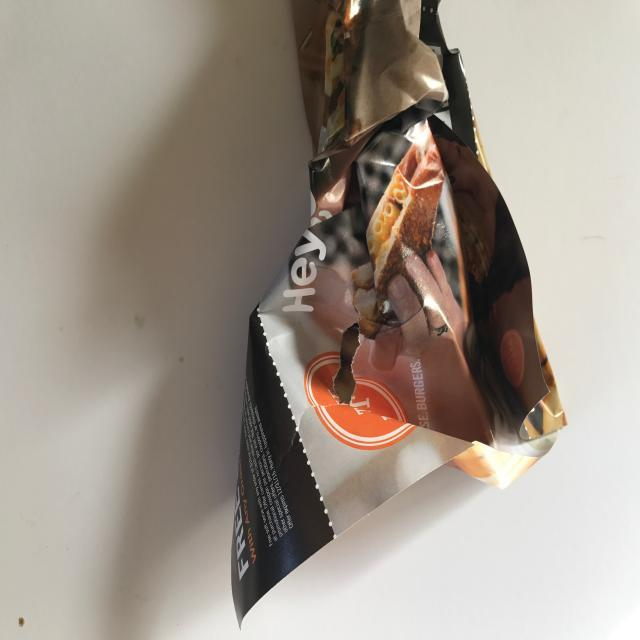paper: (229, 1, 569, 634)
